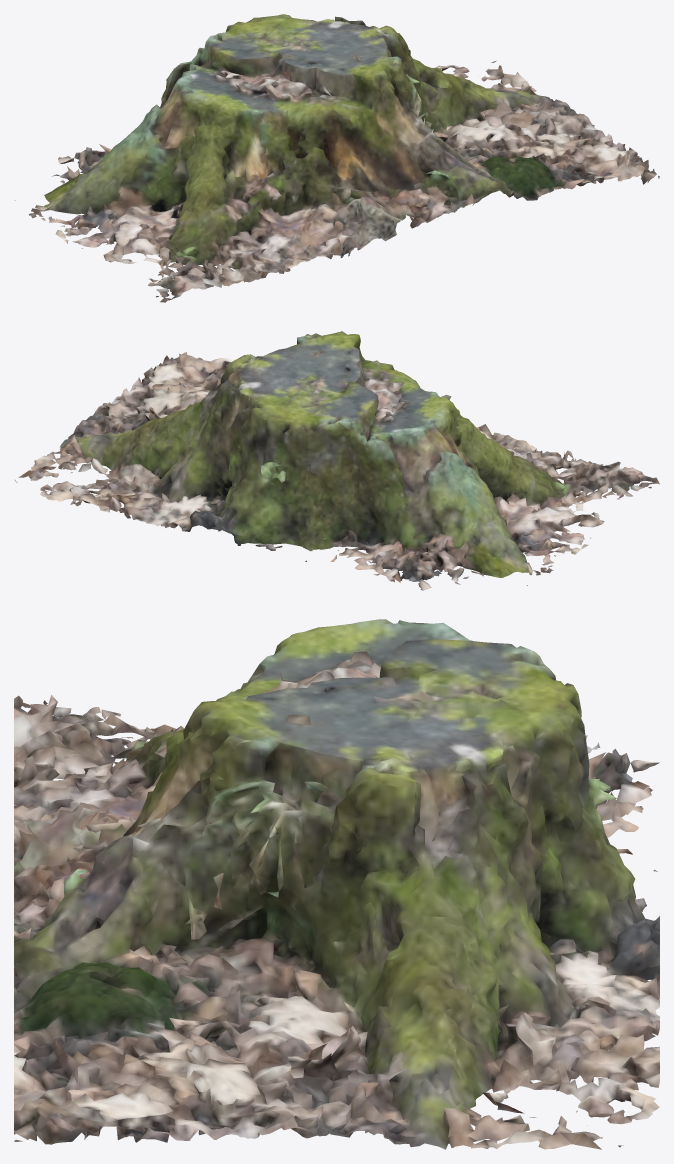
Rendered from cutted-woods.glb.
3 views of the same model, one above another, from view 1: azimuth 30°, elevation 25°; view 2: azimuth 150°, elevation 25°; view 3: azimuth 270°, elevation 25° (orthographic). The views are drawn at different scales.
Visible parts, largest first — view 1: Object_2; view 2: Object_2; view 3: Object_2.
Part boxes in pixels (left/top/right/bottom): Object_2: left=14, top=14, right=659, bottom=302; Object_2: left=14, top=331, right=659, bottom=590; Object_2: left=14, top=619, right=659, bottom=1149.
Bounding box in the file's own units: 25.05 × 5.96 × 14.92.
1 material, 1 textured.
